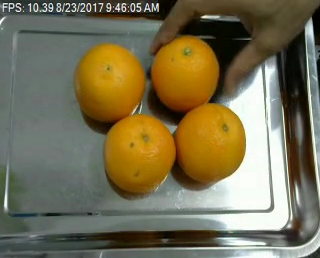Orange: (74, 42, 147, 120), (102, 114, 175, 191), (175, 103, 246, 182), (152, 36, 220, 113)
